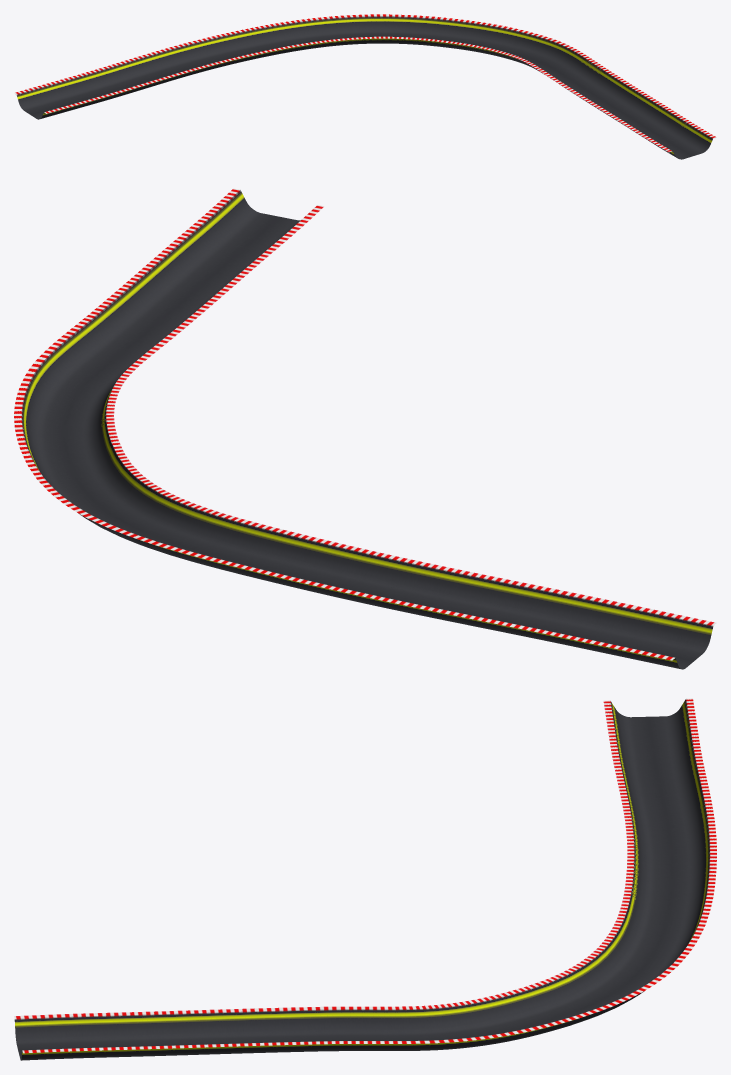
The model's file is track 2.1.fbx.
The picture shows the model from 3 angles, top to bottom: view 1: azimuth 30°, elevation 25°; view 2: azimuth 150°, elevation 25°; view 3: azimuth 270°, elevation 25°; orthographic projection. The views are drawn at different scales.
Visible parts, largest first — view 1: side cube transperent.001; view 2: side cube transperent.001; view 3: side cube transperent.001.
Boxes of the visible parts, x1,y1,x2,y2 form: side cube transperent.001: (14, 14, 716, 159); side cube transperent.001: (14, 188, 716, 669); side cube transperent.001: (14, 698, 716, 1060).
Bounding box in the file's own units: 12578 × 419 × 10519.
